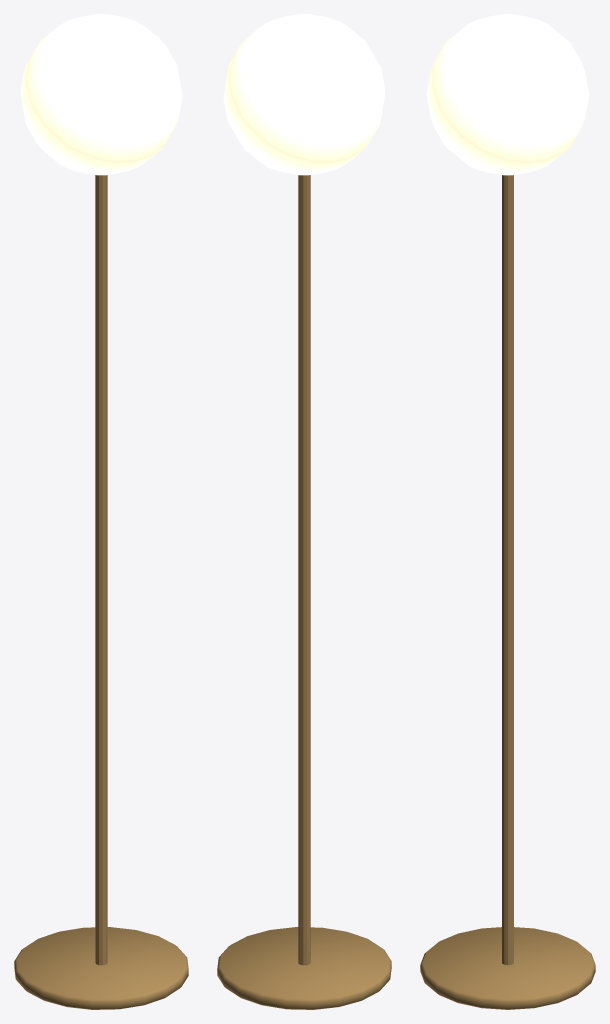
Rendered from i_flamp_5.glb.
3 renders of one model, left to right at view 1: azimuth 30°, elevation 25°; view 2: azimuth 150°, elevation 25°; view 3: azimuth 270°, elevation 25°, orthographic.
Visible parts, largest first — view 1: o.002, o, o.001; view 2: o.002, o, o.001; view 3: o.002, o, o.001.
Boxes of the visible parts, x1,y1,x2,y2 form: o.002: [20, 14, 182, 175]; o: [14, 927, 188, 1009]; o.001: [95, 175, 107, 965]; o.002: [223, 14, 385, 175]; o: [217, 927, 391, 1009]; o.001: [298, 175, 310, 965]; o.002: [426, 14, 589, 175]; o: [420, 927, 595, 1009]; o.001: [502, 175, 513, 965].
Bounding box in the file's own units: 0.28 × 1.68 × 0.28.
